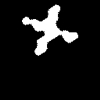single_crochet: (22, 5, 77, 54)
